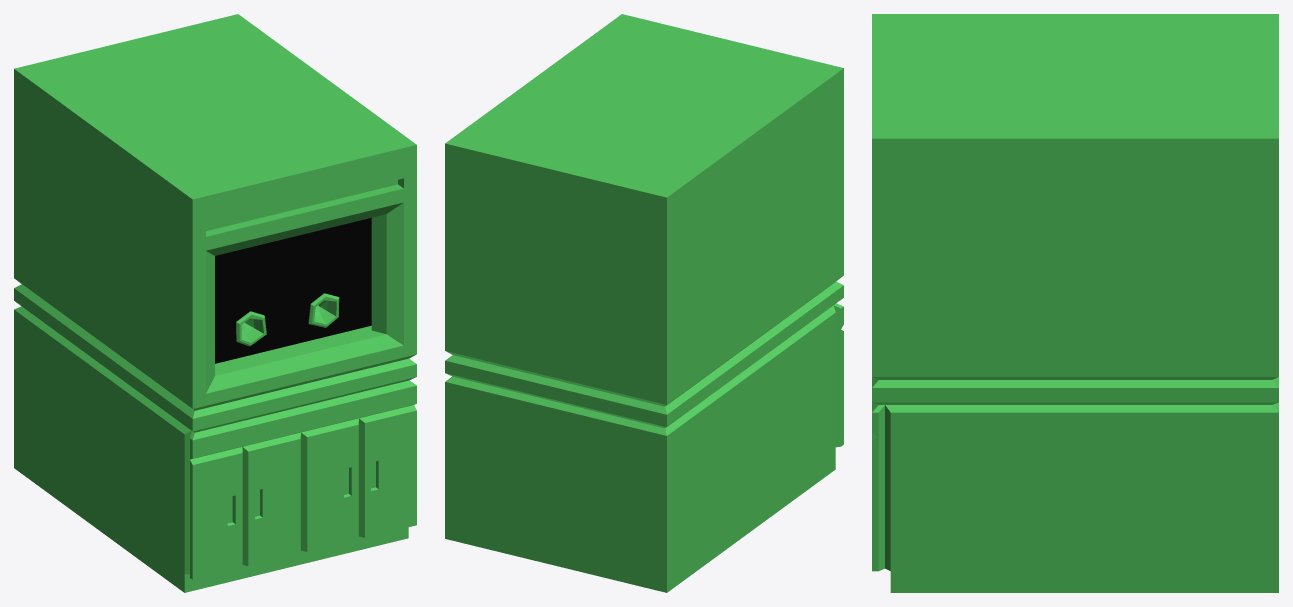
The model's file is Ph_sealed_box.fbx.
3 renders of one model, left to right at view 1: azimuth 30°, elevation 25°; view 2: azimuth 150°, elevation 25°; view 3: azimuth 270°, elevation 25°, orthographic. The views are drawn at different scales.
Parts seen in each view (by area): view 1: Cube_87; view 2: Cube_87; view 3: Cube_87.
Part boxes in pixels (x1,y1,x2,y2): Cube_87: [14, 14, 416, 592]; Cube_87: [445, 14, 843, 592]; Cube_87: [872, 14, 1278, 592].
Size of the model in its own units: 125 by 212 by 172.
